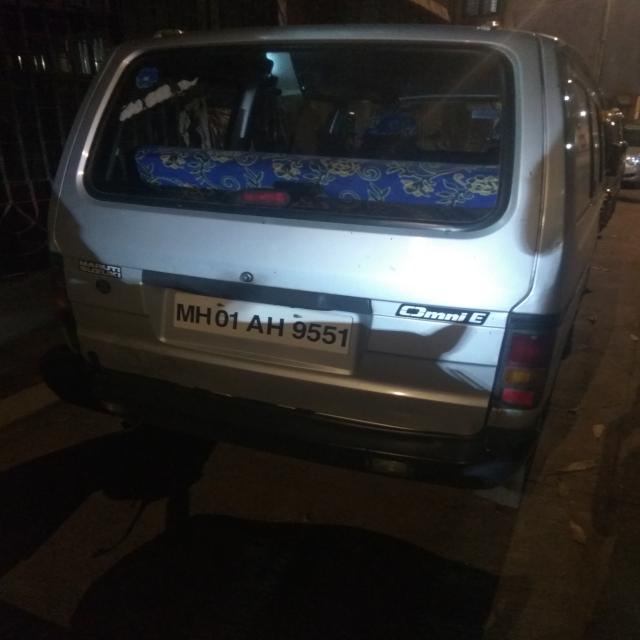Number-Plate: (175, 289, 351, 353)
